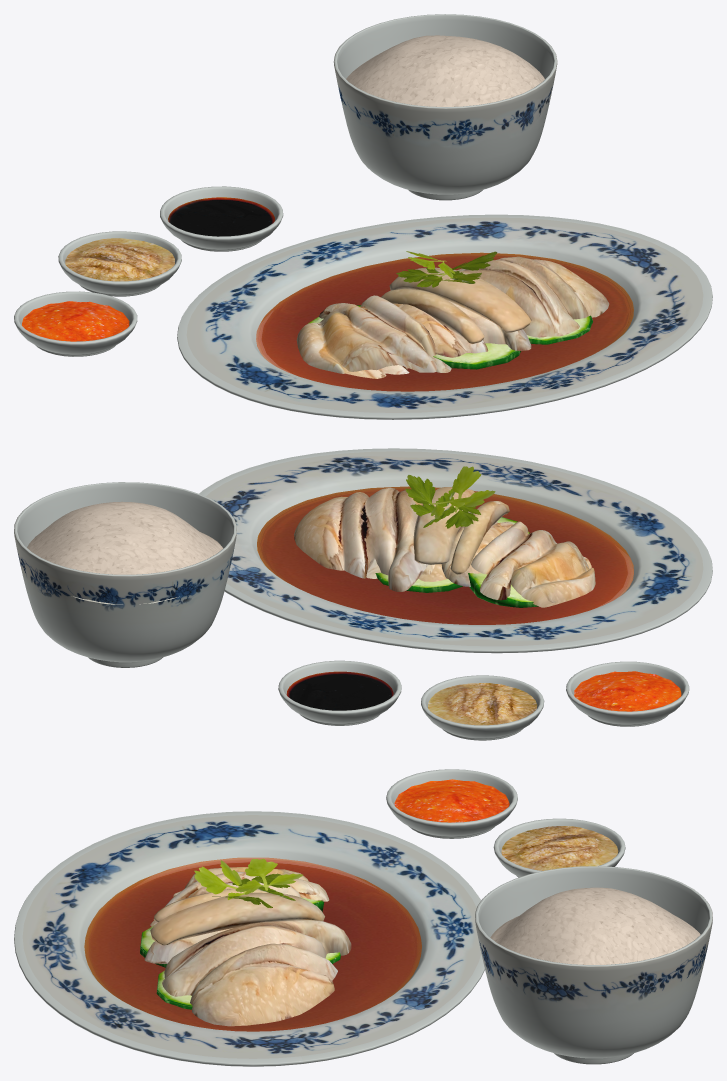
File: hainanese_chicken_rice.glb
3 views of the same model, one above another, from view 1: azimuth 30°, elevation 25°; view 2: azimuth 150°, elevation 25°; view 3: azimuth 270°, elevation 25° (orthographic). The views are drawn at different scales.
Visible parts, largest first — view 1: Chicken_Rice_Arranged4, Chicken_Rice_Arranged18, Chicken_Rice_Arranged3, Chicken_Rice_Arranged7, Chicken_Rice_Arranged6, Chicken_Rice_Arranged23, Chicken_Rice_Arranged24, Chicken_Rice_Arranged17, Chicken_Rice_Arranged8, Chicken_Rice_Arranged10, Chicken_Rice_Arranged12, Chicken_Rice_Arranged11 (+4 smaller); view 2: Chicken_Rice_Arranged4, Chicken_Rice_Arranged18, Chicken_Rice_Arranged3, Chicken_Rice_Arranged6, Chicken_Rice_Arranged7, Chicken_Rice_Arranged23, Chicken_Rice_Arranged24, Chicken_Rice_Arranged17, Chicken_Rice_Arranged10, Chicken_Rice_Arranged12, Chicken_Rice_Arranged11, Chicken_Rice_Arranged8 (+8 smaller); view 3: Chicken_Rice_Arranged4, Chicken_Rice_Arranged18, Chicken_Rice_Arranged3, Chicken_Rice_Arranged6, Chicken_Rice_Arranged8, Chicken_Rice_Arranged23, Chicken_Rice_Arranged24, Chicken_Rice_Arranged12, Chicken_Rice_Arranged11, Chicken_Rice_Arranged7, Chicken_Rice_Arranged19, Chicken_Rice_Arranged5 (+3 smaller).
Part boxes in pixels (<box>): Chicken_Rice_Arranged4: <box>177,214,712,419</box>; Chicken_Rice_Arranged18: <box>333,14,557,200</box>; Chicken_Rice_Arranged3: <box>256,252,633,391</box>; Chicken_Rice_Arranged7: <box>296,295,437,373</box>; Chicken_Rice_Arranged6: <box>457,256,609,337</box>; Chicken_Rice_Arranged23: <box>65,238,174,281</box>; Chicken_Rice_Arranged24: <box>22,301,129,341</box>; Chicken_Rice_Arranged17: <box>168,197,274,236</box>; Chicken_Rice_Arranged8: <box>389,267,531,332</box>; Chicken_Rice_Arranged10: <box>160,186,283,251</box>; Chicken_Rice_Arranged12: <box>14,291,137,356</box>; Chicken_Rice_Arranged11: <box>58,231,181,296</box>; Chicken_Rice_Arranged4: <box>199,448,712,653</box>; Chicken_Rice_Arranged18: <box>14,482,236,667</box>; Chicken_Rice_Arranged3: <box>257,486,633,624</box>; Chicken_Rice_Arranged6: <box>294,488,428,591</box>; Chicken_Rice_Arranged7: <box>471,521,595,607</box>; Chicken_Rice_Arranged23: <box>428,683,537,725</box>; Chicken_Rice_Arranged24: <box>574,671,681,711</box>; Chicken_Rice_Arranged17: <box>286,671,393,710</box>; Chicken_Rice_Arranged10: <box>278,660,401,725</box>; Chicken_Rice_Arranged12: <box>566,661,689,726</box>; Chicken_Rice_Arranged11: <box>421,675,544,740</box>; Chicken_Rice_Arranged8: <box>413,487,474,564</box>; Chicken_Rice_Arranged4: <box>14,811,484,1066</box>; Chicken_Rice_Arranged18: <box>475,866,712,1064</box>; Chicken_Rice_Arranged3: <box>84,857,421,1031</box>; Chicken_Rice_Arranged6: <box>162,919,351,1026</box>; Chicken_Rice_Arranged8: <box>150,892,324,945</box>; Chicken_Rice_Arranged23: <box>501,826,618,870</box>; Chicken_Rice_Arranged24: <box>394,779,509,822</box>; Chicken_Rice_Arranged12: <box>386,769,517,838</box>; Chicken_Rice_Arranged11: <box>493,818,625,877</box>; Chicken_Rice_Arranged7: <box>165,867,329,906</box>; Chicken_Rice_Arranged19: <box>235,859,302,894</box>; Chicken_Rice_Arranged5: <box>144,928,232,963</box>.
Size of the model in its own units: 3.33 by 0.7399 by 3.22.
Materials: 1 (1 with a texture image).
